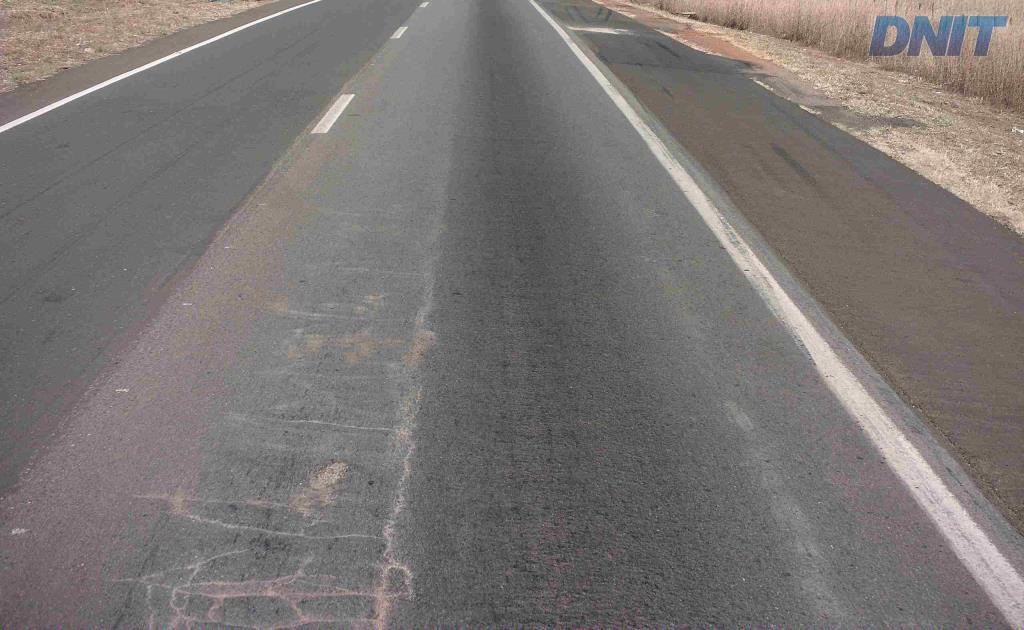pothole: (301, 453, 356, 494)
